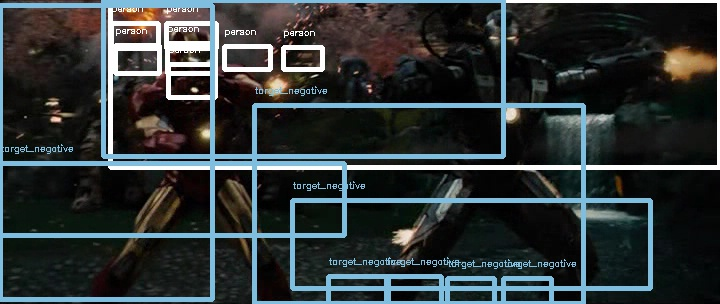person: (170, 26, 218, 79), (169, 26, 217, 79), (171, 26, 219, 79), (170, 25, 218, 78), (170, 27, 218, 80)
target_negative: (424, 65, 711, 278), (512, 31, 715, 160), (228, 145, 416, 274), (460, 5, 555, 258), (634, 136, 679, 251), (180, 278, 332, 290)
